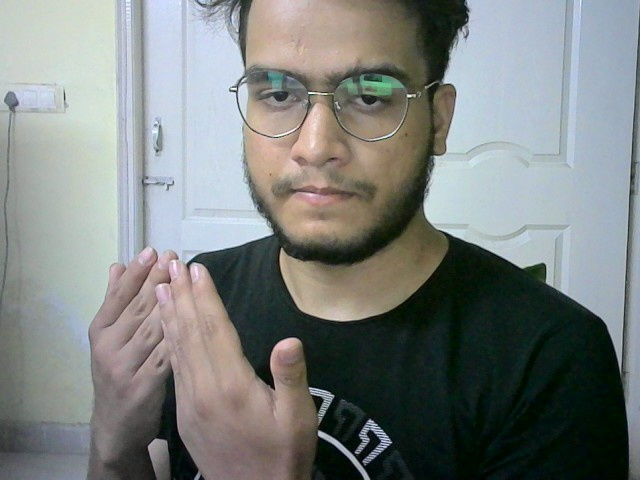Thank You: (81, 239, 331, 471)
